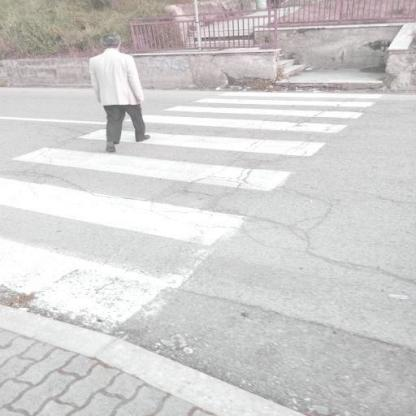crosswalk: (0, 174, 250, 351), (66, 112, 364, 160)
